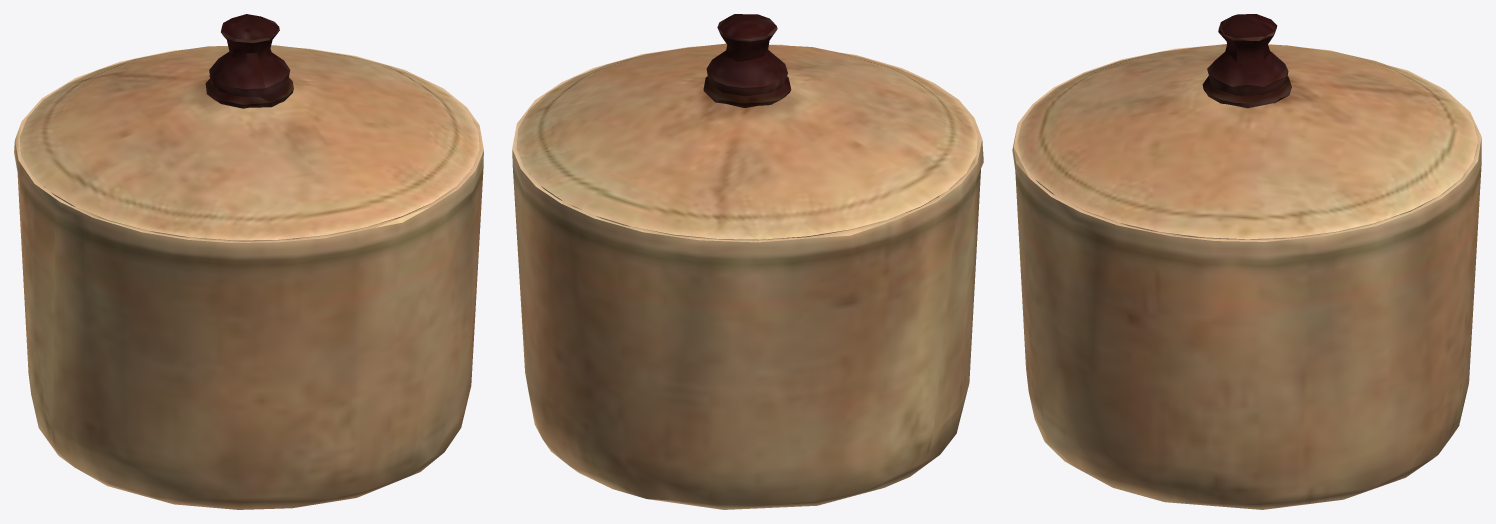
File: pot-brass.lod1.glb
3 renders of one model, left to right at view 1: azimuth 30°, elevation 25°; view 2: azimuth 150°, elevation 25°; view 3: azimuth 270°, elevation 25°, orthographic.
Visible parts, largest first — view 1: pot-brass; view 2: pot-brass; view 3: pot-brass.
Boxes of the visible parts, x1=… form: pot-brass: x1=14, y1=14, x2=483, y2=509; pot-brass: x1=512, y1=14, x2=983, y2=509; pot-brass: x1=1012, y1=14, x2=1481, y2=509.
Size of the model in its own units: 0.3006 by 0.291 by 0.3006.
Materials: 1 (1 with a texture image).
